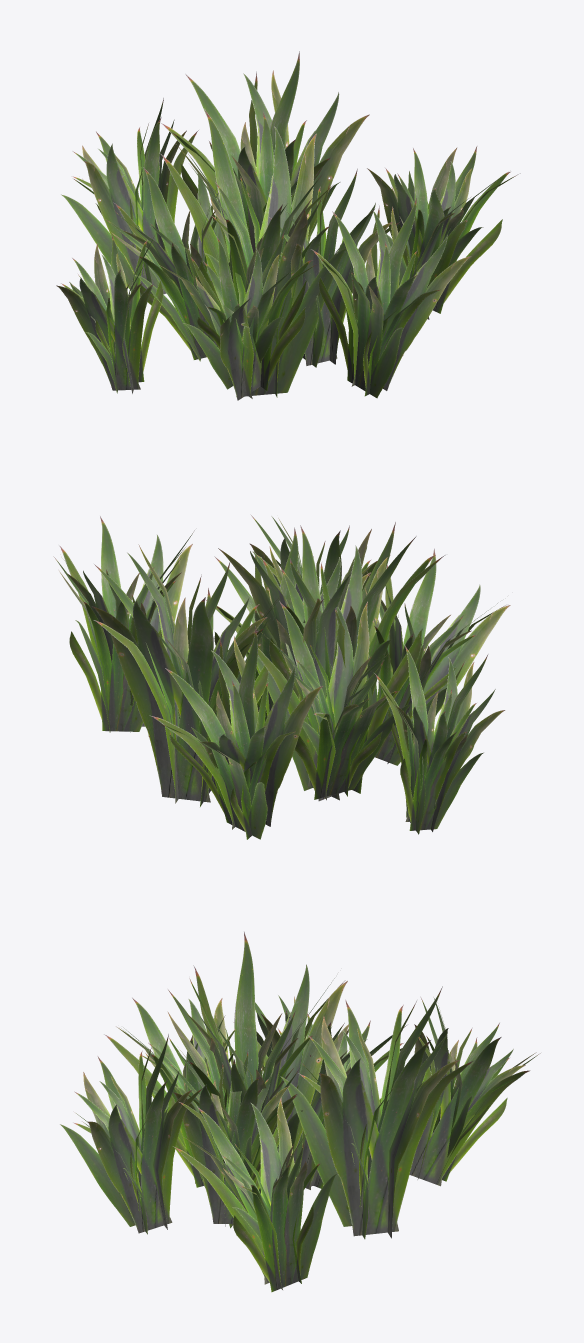
File: Bush_Lilly001.fbx
3 views of the same model, one above another, from view 1: azimuth 30°, elevation 25°; view 2: azimuth 150°, elevation 25°; view 3: azimuth 270°, elevation 25° (orthographic). The views are drawn at different scales.
Visible parts, largest first — view 1: Plane002_4, Plane001_4, Plane002_7, Plane002_5, Plane001_6, Plane002_3, Plane002_6, Plane002_8, Plane004_3, Plane004_2, Plane001_8, Plane002 (+29 smaller); view 2: Plane004_3, Plane002_7, Plane002_1, Plane001_1, Plane004_2, Plane003_8, Plane004_4, Plane002_3, Plane004_8, Plane004_7, Plane002_4, Plane001_7 (+30 smaller); view 3: Plane002_3, Plane004_4, Plane002_6, Plane001_8, Plane004_7, Plane001_3, Plane002_8, Plane004, Plane004_3, Plane001_6, Plane002_2, Plane004_6 (+20 smaller).
Boxes of the visible parts, x1=… form: Plane002_4: x1=159, y1=108, x2=316, y2=277; Plane001_4: x1=197, y1=204, x2=346, y2=397; Plane002_7: x1=84, y1=117, x2=198, y2=295; Plane002_5: x1=56, y1=269, x2=153, y2=390; Plane001_6: x1=318, y1=257, x2=403, y2=398; Plane002_3: x1=249, y1=51, x2=369, y2=238; Plane002_6: x1=371, y1=196, x2=471, y2=390; Plane002_8: x1=367, y1=168, x2=467, y2=319; Plane004_3: x1=159, y1=70, x2=289, y2=199; Plane004_2: x1=220, y1=264, x2=316, y2=400; Plane001_8: x1=408, y1=146, x2=510, y2=313; Plane002: x1=290, y1=209, x2=401, y2=365; Plane004_3: x1=92, y1=597, x2=259, y2=802; Plane002_7: x1=218, y1=626, x2=323, y2=826; Plane002_1: x1=251, y1=601, x2=369, y2=786; Plane001_1: x1=295, y1=695, x2=411, y2=799; Plane004_2: x1=385, y1=548, x2=510, y2=721; Plane003_8: x1=69, y1=601, x2=146, y2=731; Plane004_4: x1=299, y1=536, x2=445, y2=801; Plane002_3: x1=93, y1=544, x2=180, y2=803; Plane004_8: x1=59, y1=516, x2=192, y2=726; Plane004_7: x1=149, y1=636, x2=258, y2=829; Plane002_4: x1=218, y1=548, x2=345, y2=800; Plane001_7: x1=162, y1=724, x2=267, y2=839; Plane002_3: x1=319, y1=1040, x2=475, y2=1236; Plane004_4: x1=193, y1=931, x2=347, y2=1152; Plane002_6: x1=87, y1=1080, x2=202, y2=1233; Plane001_8: x1=233, y1=1161, x2=337, y2=1292; Plane004_7: x1=409, y1=1024, x2=529, y2=1186; Plane001_3: x1=280, y1=999, x2=431, y2=1226; Plane002_8: x1=173, y1=1097, x2=296, y2=1284; Plane004: x1=173, y1=1076, x2=297, y2=1223; Plane004_3: x1=380, y1=986, x2=459, y2=1238; Plane001_6: x1=60, y1=1050, x2=175, y2=1226; Plane002_2: x1=103, y1=997, x2=228, y2=1183; Plane004_6: x1=141, y1=1034, x2=192, y2=1229.
Bounding box in the file's own units: 338 × 164 × 311.
